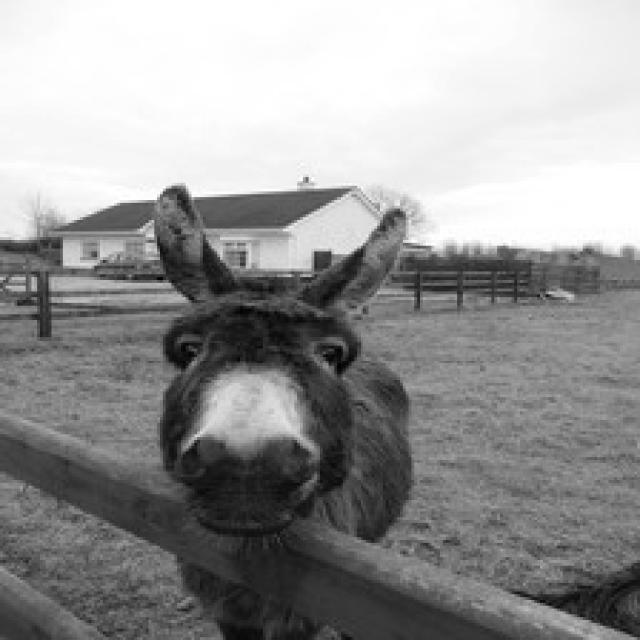Donkey: (149, 180, 414, 637)
